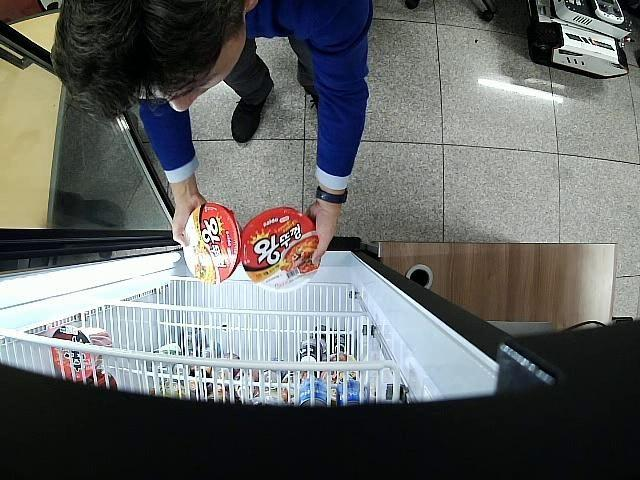10_wangTtukkeong: (242, 206, 321, 293), (182, 202, 243, 284)
